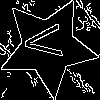V: (23, 22, 72, 61)
